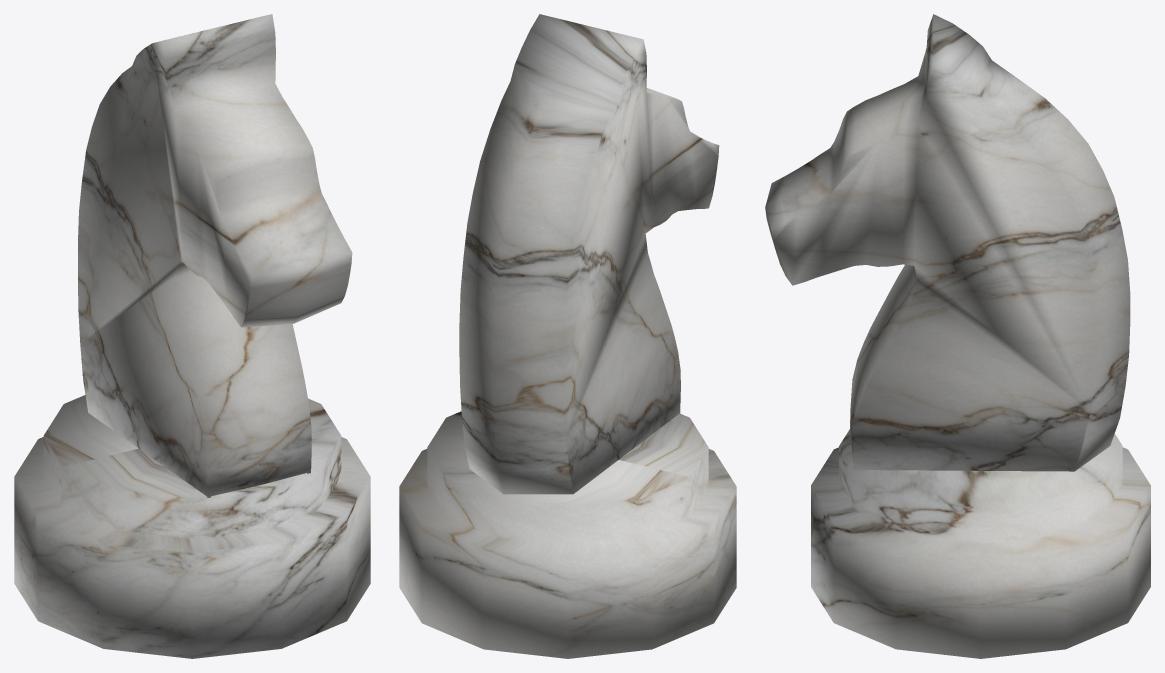
The model's file is CaballoBlanco.glb.
The picture shows the model from 3 angles, left to right: view 1: azimuth 30°, elevation 25°; view 2: azimuth 150°, elevation 25°; view 3: azimuth 270°, elevation 25°; orthographic projection. The views are drawn at different scales.
Visible parts, largest first — view 1: Caballo; view 2: Caballo; view 3: Caballo.
Part boxes in pixels (x1,y1,x2,y2): Caballo: (14,14,370,658); Caballo: (399,14,736,658); Caballo: (765,14,1150,658).
Bounding box in the file's own units: 0.7016 × 1.25 × 0.7963.
1 material, 1 textured.
